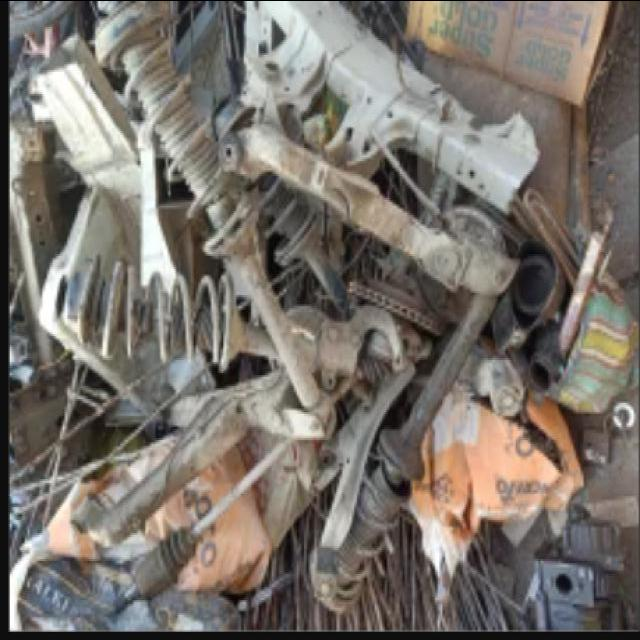shock absorber: (94, 2, 322, 407), (309, 292, 499, 613), (61, 251, 361, 371)
